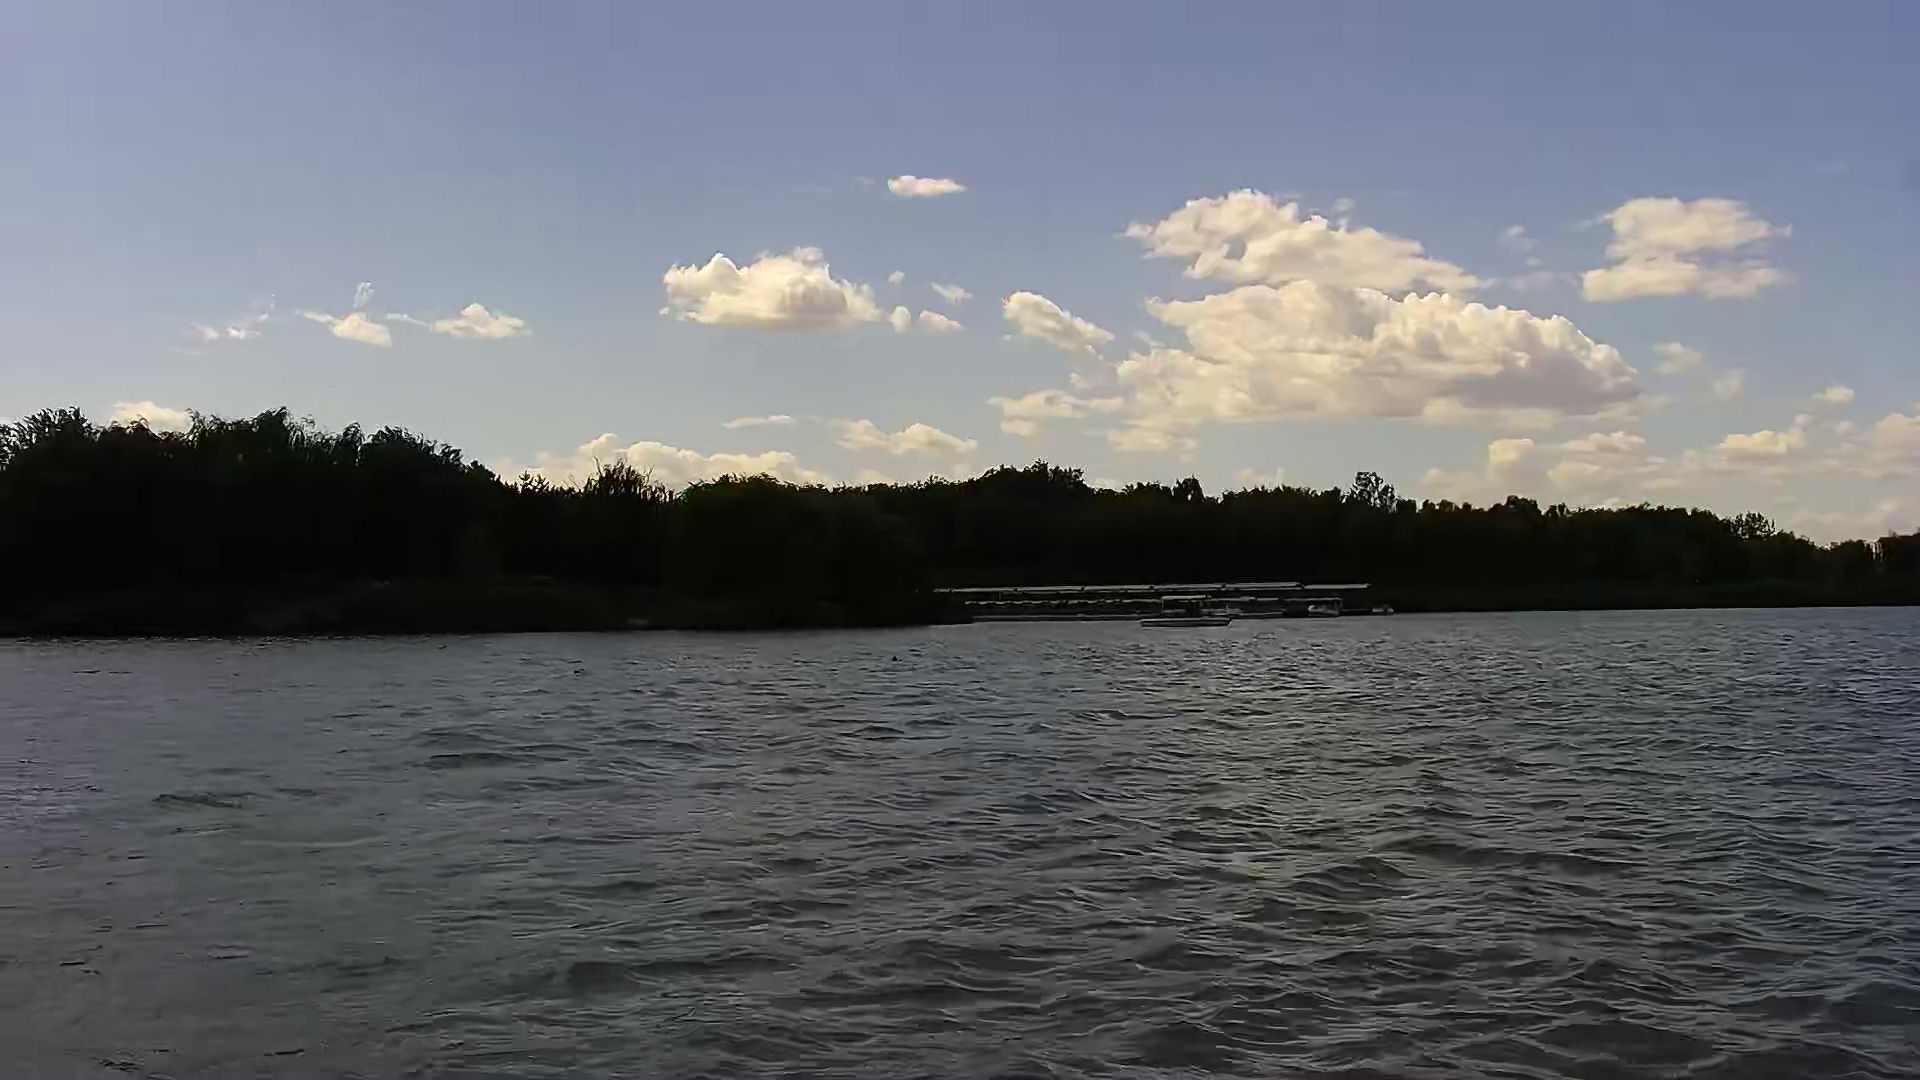boat: (1149, 591, 1240, 630)
harbor: (938, 580, 1396, 622)
